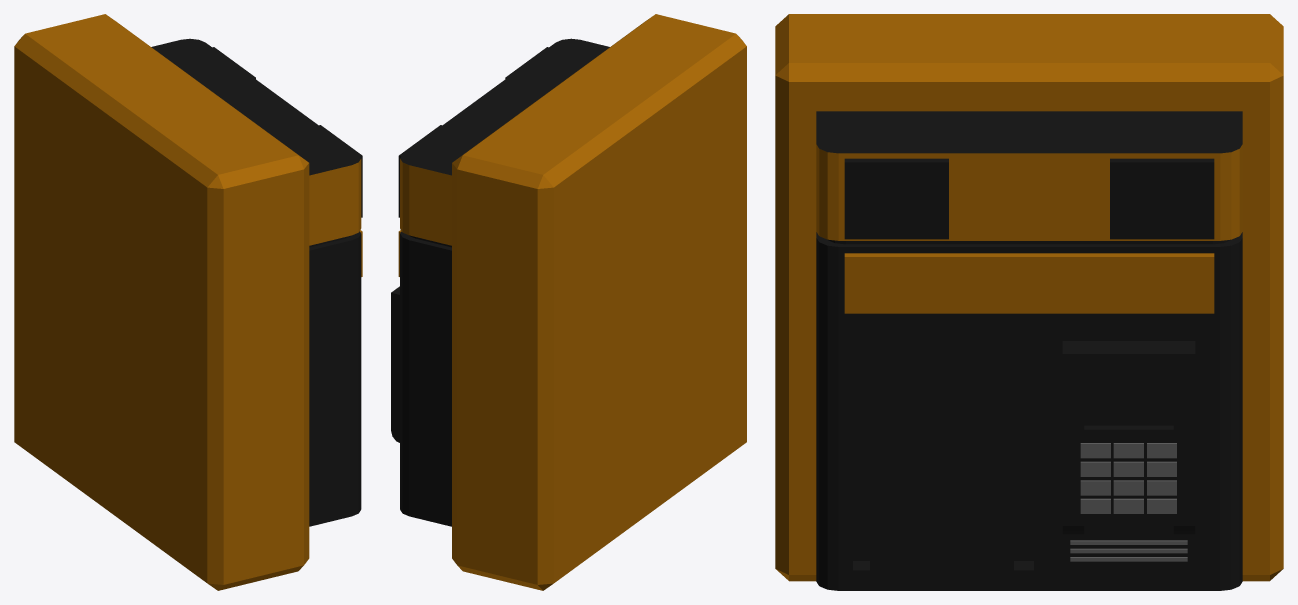
Rendered from switch1.fbx.
The picture shows the model from 3 angles, left to right: view 1: azimuth 30°, elevation 25°; view 2: azimuth 150°, elevation 25°; view 3: azimuth 270°, elevation 25°; orthographic projection. The views are drawn at different scales.
Visible parts, largest first — view 1: switch 3; view 2: switch 3; view 3: switch 3.
Boxes of the visible parts, left/top/right/bottom form: switch 3: left=14, top=14, right=362, bottom=590; switch 3: left=391, top=14, right=746, bottom=590; switch 3: left=775, top=14, right=1283, bottom=590.
Bounding box in the file's own units: 212 × 433 × 385.
